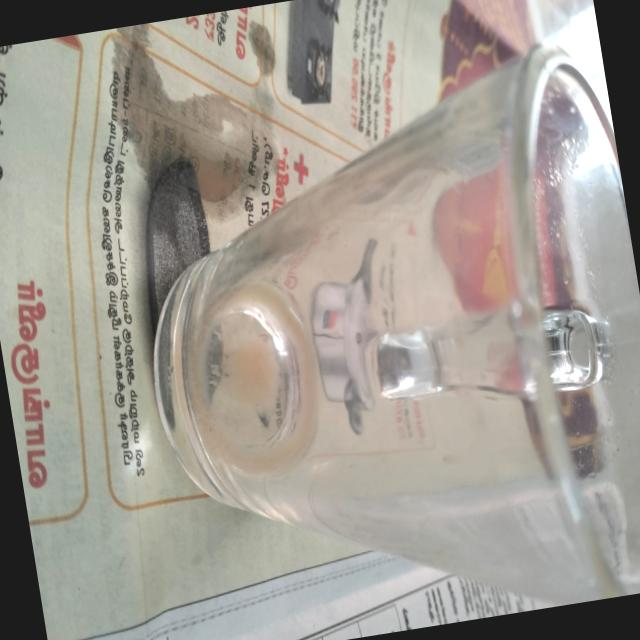glass-VX4N: (105, 33, 640, 640)
